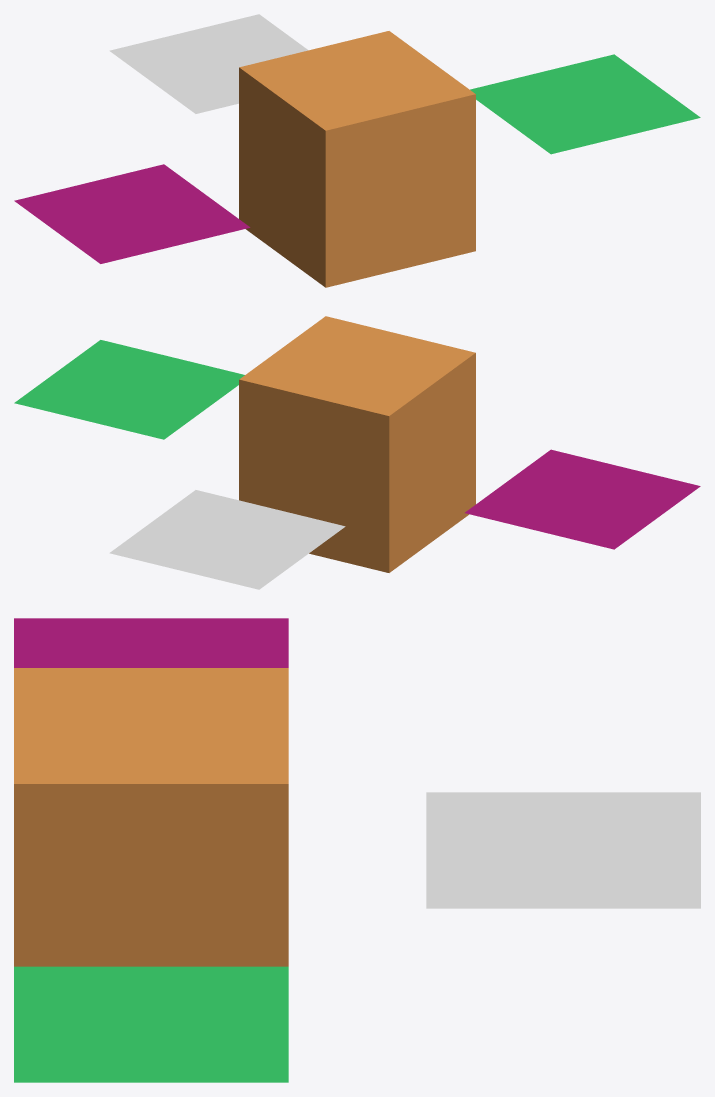
File: pointer_texture_transform.out_tt.glb
3 views of the same model, one above another, from view 1: azimuth 30°, elevation 25°; view 2: azimuth 150°, elevation 25°; view 3: azimuth 270°, elevation 25° (orthographic). The views are drawn at different scales.
Parts seen in each view (by area): view 1: Cube, Plane.001, Plane, Plane.002; view 2: Cube, Plane.001, Plane.002, Plane; view 3: Cube, Plane, Plane.002, Plane.001.
Part boxes in pixels (bbox=[...]): Cube: bbox=[239, 31, 475, 287]; Plane.001: bbox=[14, 164, 250, 263]; Plane: bbox=[470, 54, 700, 154]; Plane.002: bbox=[109, 14, 308, 113]; Cube: bbox=[239, 316, 475, 572]; Plane.001: bbox=[465, 449, 700, 549]; Plane.002: bbox=[109, 490, 345, 589]; Plane: bbox=[14, 340, 244, 439]; Cube: bbox=[14, 668, 288, 966]; Plane: bbox=[14, 966, 288, 1082]; Plane.002: bbox=[426, 792, 700, 908]; Plane.001: bbox=[14, 618, 288, 667].
Size of the model in its own units: 8 by 2 by 5.
4 materials, 3 textured.
